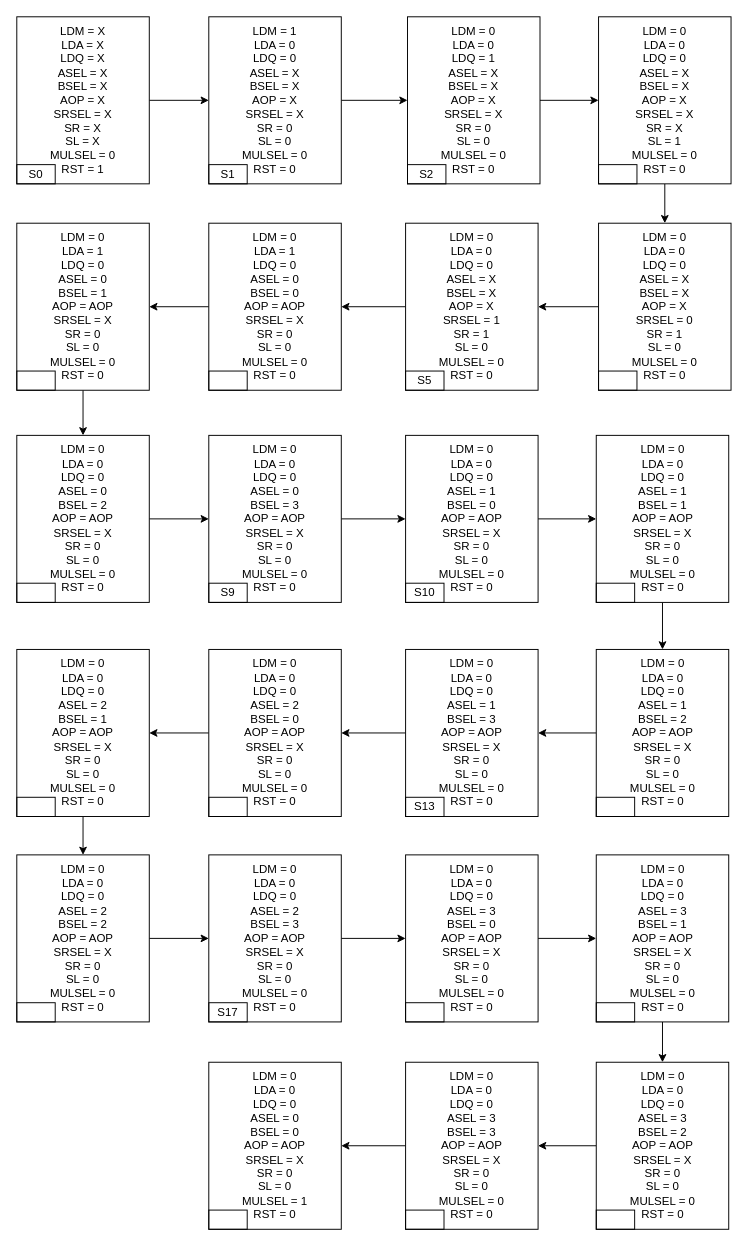
Some shapes in this 748 by 1246 pixel diagram are drawn without their labels. The shapes that lost their labels are listed below. From the top down, each one's centre as x and y in pixels, then its label:
the point at 617,174: S3
the point at 35,380: S7
the point at 227,380: S6
the point at 617,380: S4
the point at 35,592: S8
the point at 615,592: S11
the point at 35,806: S15
the point at 227,806: S14
the point at 615,806: S12
the point at 35,1012: S16
the point at 424,1012: S18
the point at 615,1012: S19
the point at 227,1219: S22
the point at 424,1219: S21
the point at 615,1219: S20
